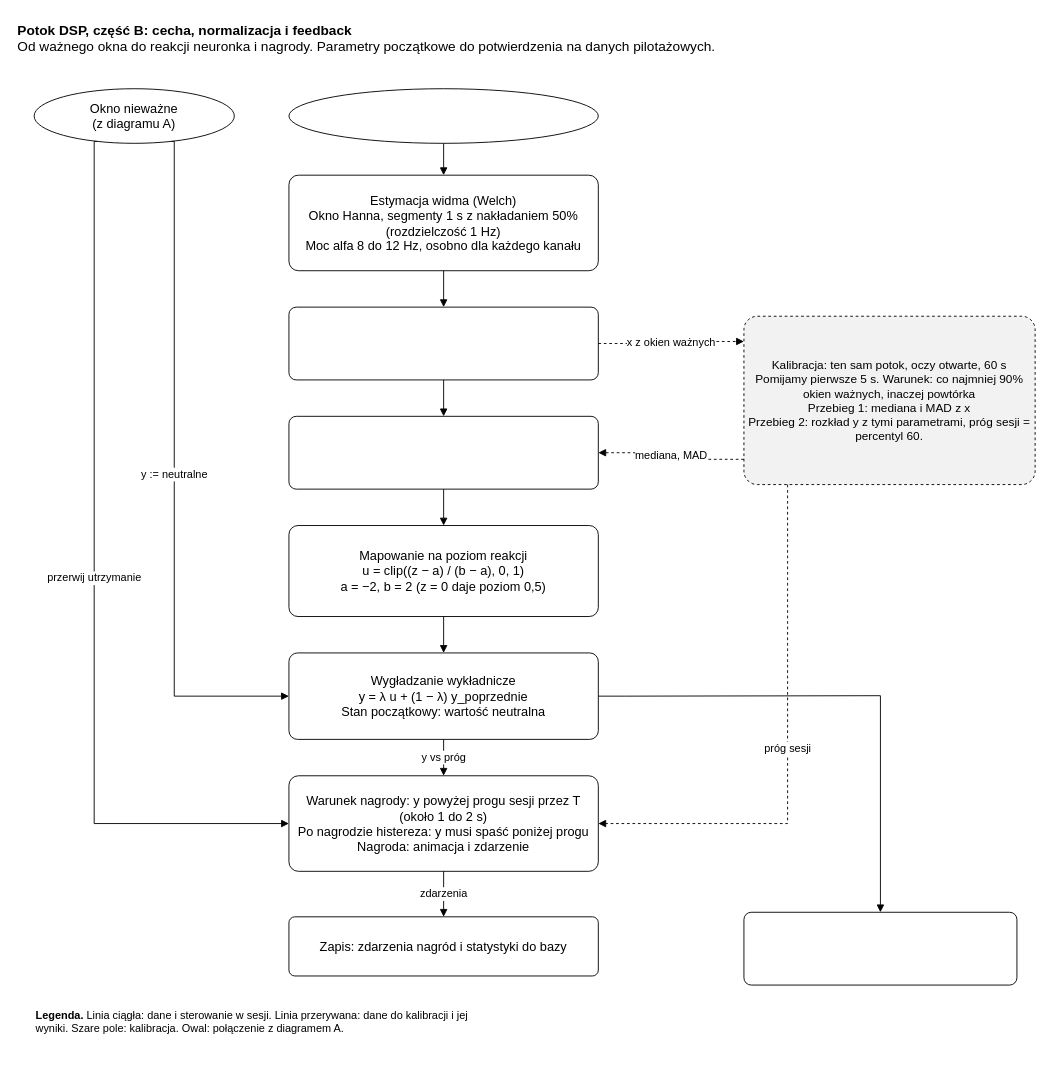
This 1059x1073 diagram has some shape labels left out. The centre of each missing label's shape, as x and y in pixels:
Cecha x = średnia po kanałach z ln((Pα + ε) / P0) P0 = 1 µV² (stała jednostkowa): the point at 443,343
Normalizacja odporna z = (x − mediana) / max(1,4826 · MAD, s_min): the point at 443,452
Okno ważne (z diagramu A): the point at 443,115
Reakcja neuronka (mimika, ruch, rozmiar) Stała luminancja klatki: the point at 880,948
